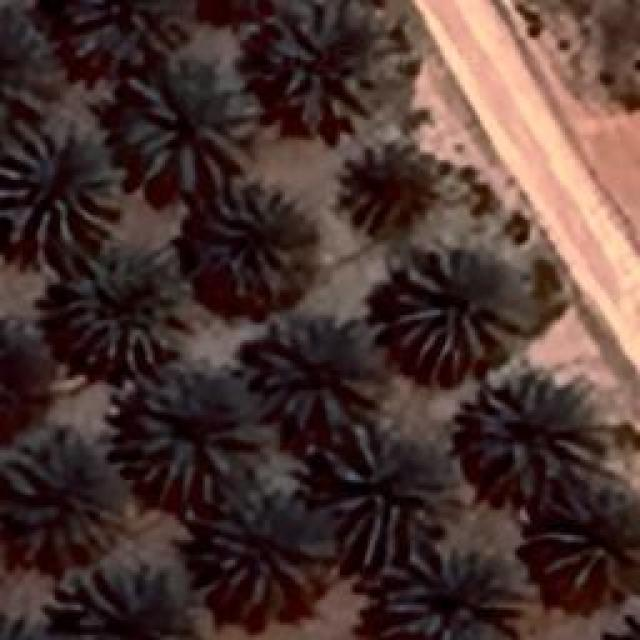PalmTree: (25, 73, 391, 196), (120, 50, 260, 195), (382, 247, 536, 375), (115, 368, 260, 502), (324, 420, 458, 560), (457, 372, 605, 498), (248, 312, 390, 430), (62, 242, 190, 370), (198, 175, 320, 303), (198, 487, 330, 605), (270, 7, 382, 135), (2, 125, 122, 240), (380, 544, 520, 638), (12, 440, 120, 550), (534, 480, 638, 590), (56, 565, 192, 640), (56, 0, 196, 60), (0, 332, 50, 420), (0, 610, 61, 640), (598, 606, 640, 640), (203, 0, 313, 11)
